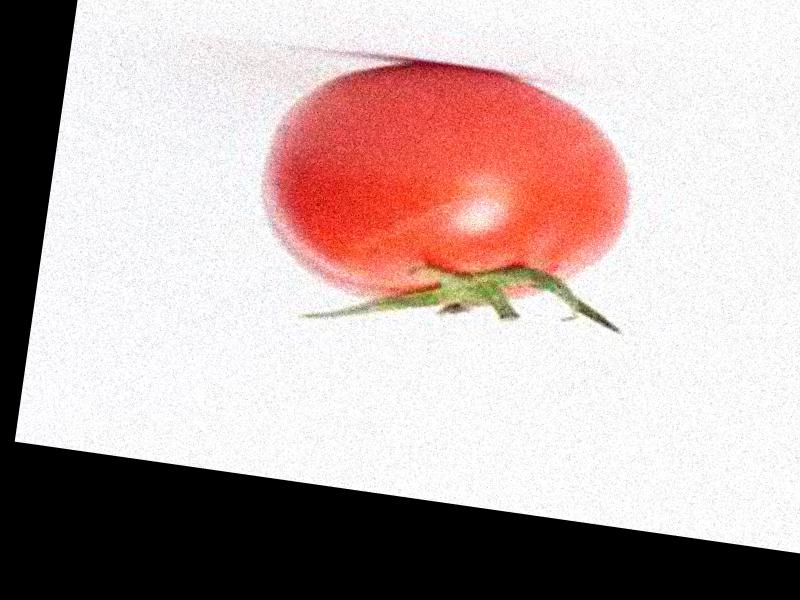Tomato: (244, 38, 643, 330)
